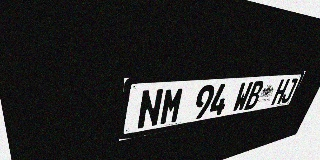4: (208, 83, 232, 117)
9: (192, 84, 216, 120)
B: (244, 81, 265, 110)
H: (271, 79, 290, 105)
J: (280, 78, 299, 104)
M: (159, 87, 185, 126)
N: (136, 88, 164, 130)
W: (231, 82, 254, 112)
